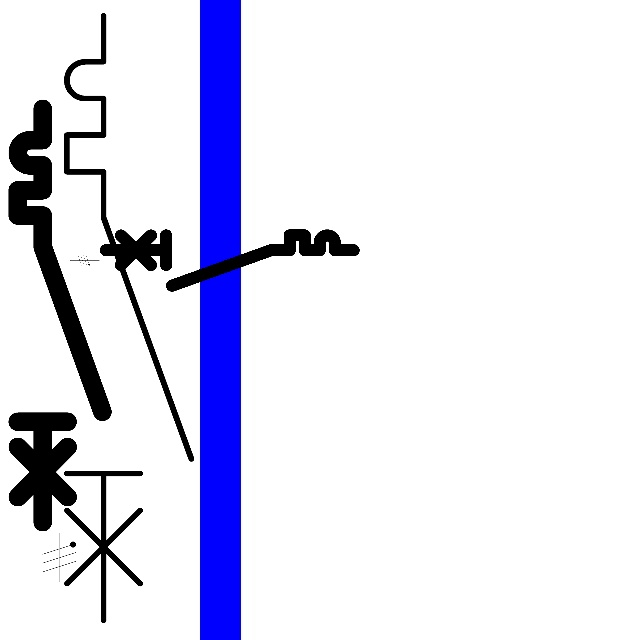interruptor_termomagnetico: (51, 0, 206, 636), (7, 98, 113, 532), (99, 229, 359, 292)
